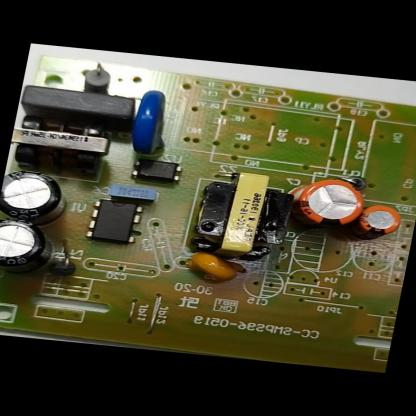Cap1: (291, 175, 366, 230)
Cap2: (356, 203, 404, 242)
Cap3: (0, 167, 72, 225)
Cap4: (0, 216, 59, 273)
MOSFET: (85, 196, 145, 246)
Mov: (131, 88, 176, 155)
Resistor: (79, 61, 118, 94)
Transformer: (190, 166, 289, 260), (6, 112, 115, 174)
